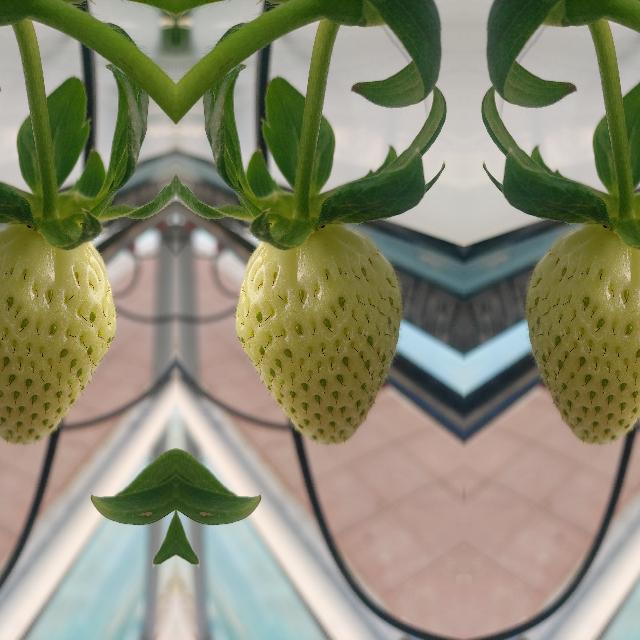Health_25: (232, 223, 402, 444), (0, 223, 118, 444), (524, 223, 640, 444)
